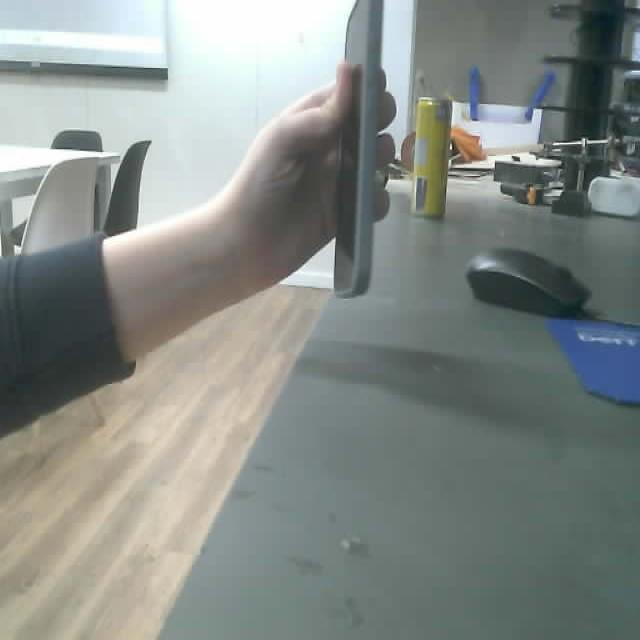phone: (333, 0, 387, 300)
